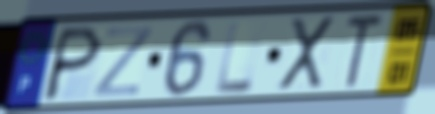6: (162, 18, 213, 100)
L: (214, 18, 256, 97)
P: (38, 23, 105, 104)
T: (340, 13, 387, 92)
X: (276, 14, 337, 95)
Z: (90, 24, 156, 100)
